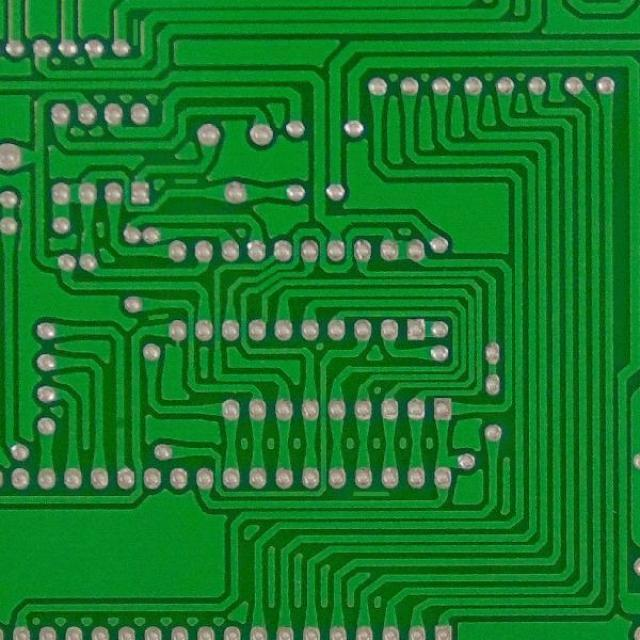Spurious_Cooper: (350, 488, 396, 500), (170, 174, 203, 188), (130, 16, 142, 48), (146, 312, 172, 322)
